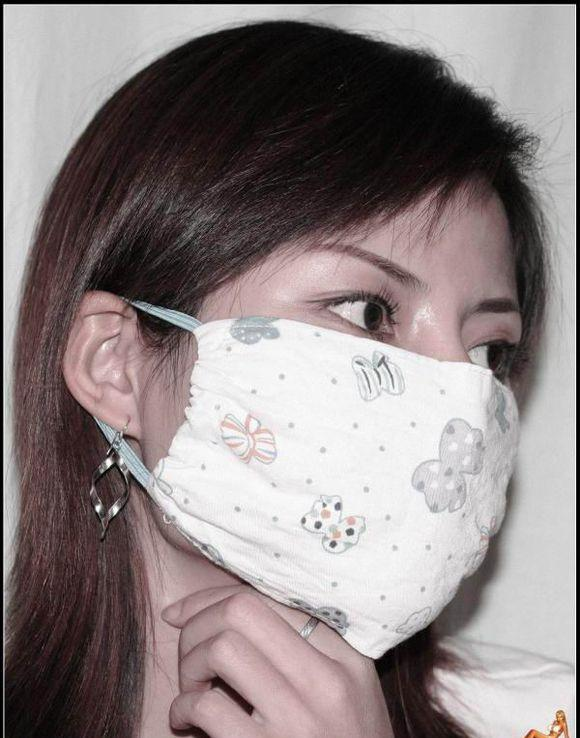OK: (119, 242, 523, 638)
